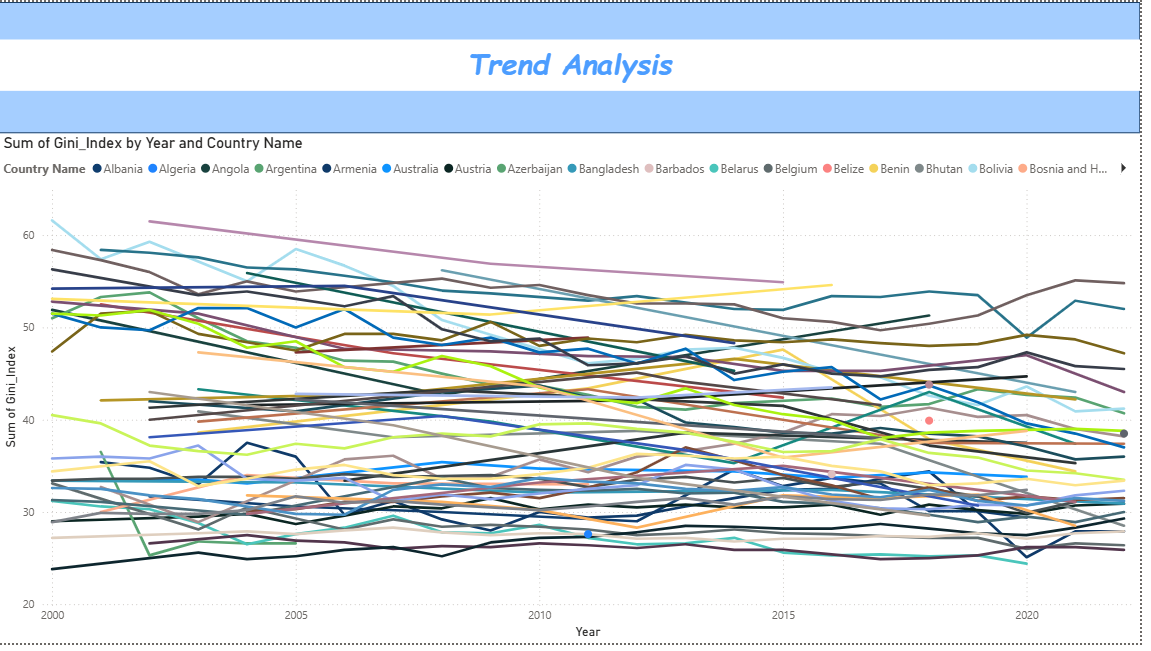

This screenshot's page, from the dashboard's own definition file:
{"tool":"powerbi","page":{"name":"Trend Analysis","canvas":[1280,720],"ordinal":2},"visuals":[{"type":"lineChart","fields":{"Category":["cleaned_income_data.Year"],"Y":["Sum(cleaned_income_data.Gini_Index)"],"Series":["cleaned_income_data.Country Name"]},"box":[0,147.2,1280.3,572.1],"z":0},{"type":"shape","box":[0,0,1280.3,147.2],"z":1},{"type":"textbox","box":[0,42.1,1280.3,57.5],"z":3}]}

Visuals, with their boxes in screenshot pixels (x1, y1, x2, y2), scaled from the page's 1280x720 canvas onto the 1151x651 screenshot:
lineChart - cleaned_income_data.Year x Sum(cleaned_income_data.Gini_Index): detection(0, 133, 1150, 650)
shape: detection(0, 0, 1150, 133)
textbox: detection(0, 38, 1150, 90)
